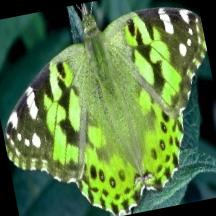butterfly: (5, 3, 207, 216)
